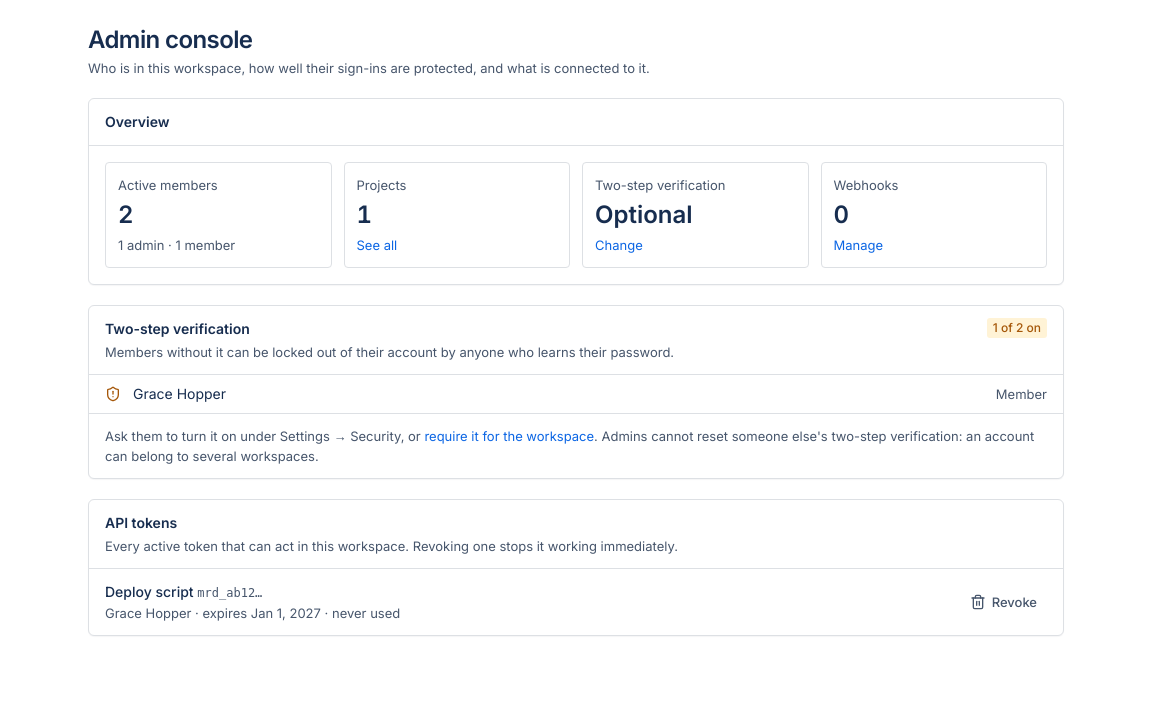
Test: admin console › revokes a workspace API token after confirmation
Expected: the text "Grace Hopper · expires Jan 1, 2027 · never used" is shown, [105,605,400,621]
Click the button with aria-label "Revoke Deploy script".
click(1003, 602)  # box [960,588,1047,616]
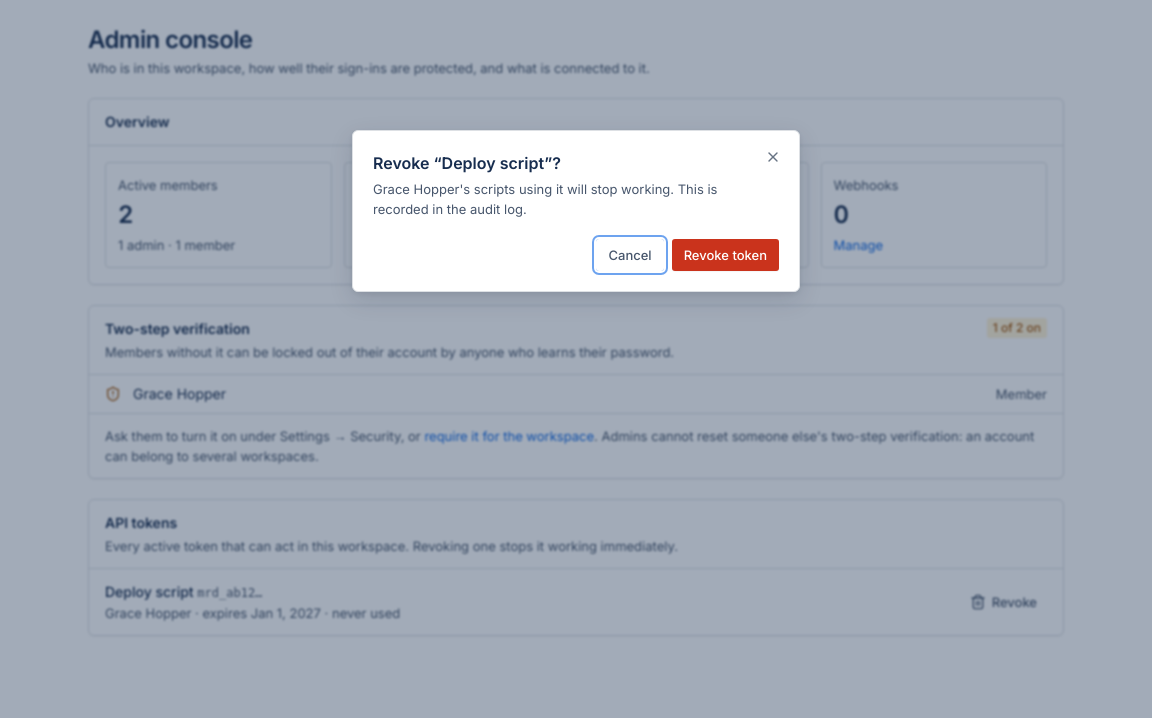
Click the button "Revoke token".
click(725, 255)  # box [672,239,779,271]
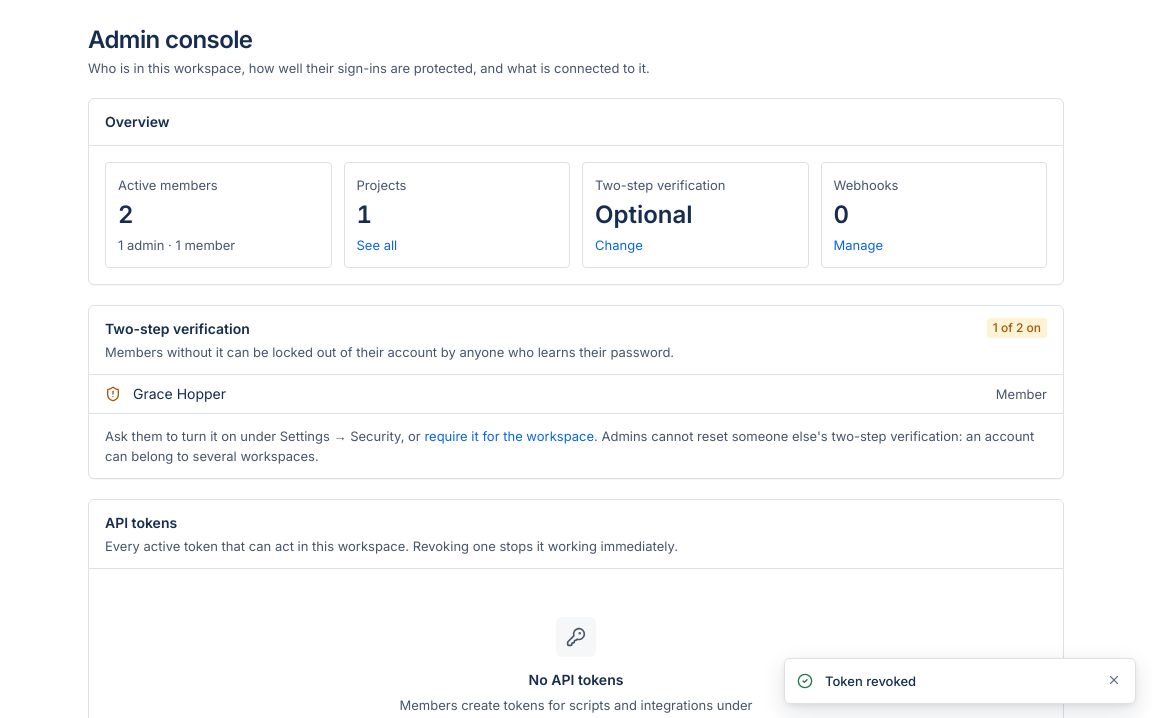
Now the heading "No API tokens" is shown, box [529,669,623,691]
